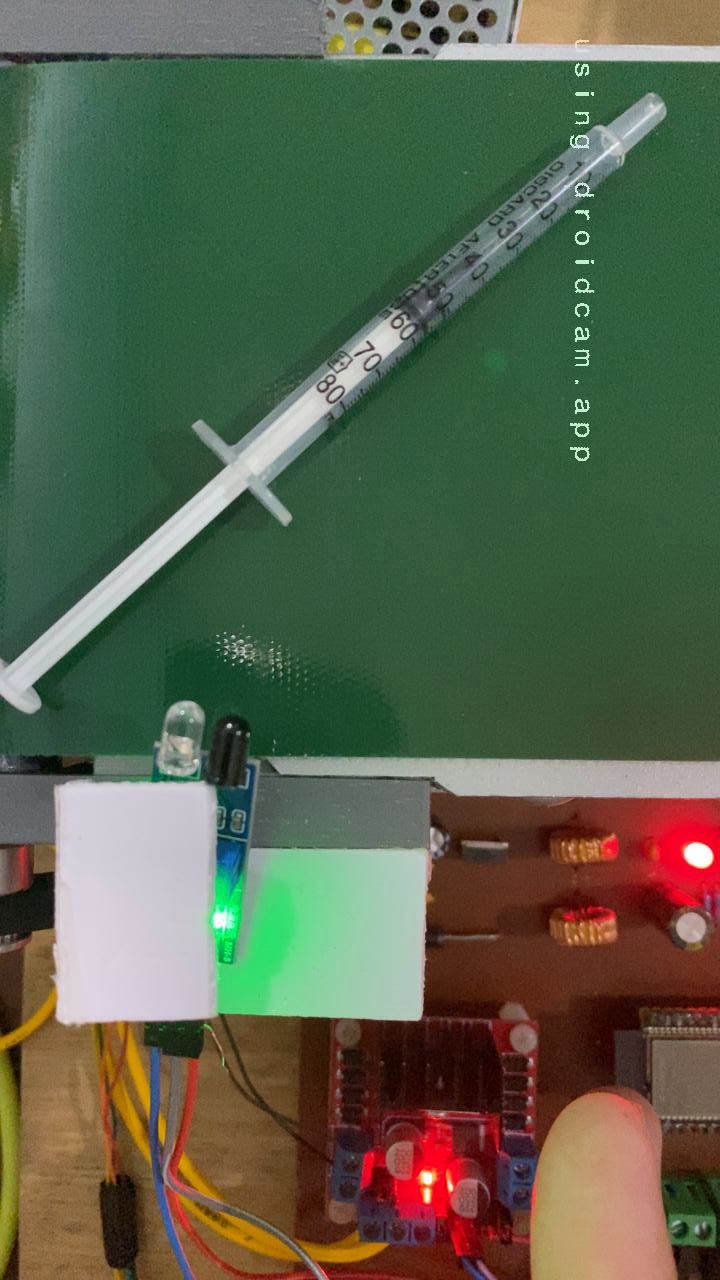syringe: (0, 206, 540, 723)
